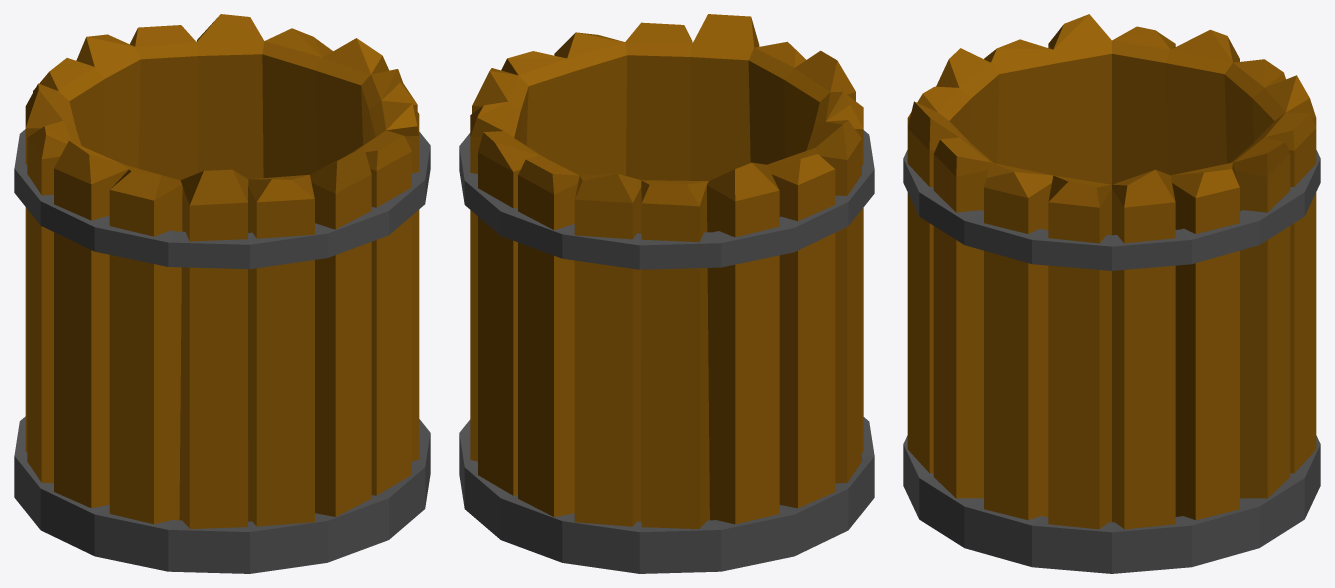
The model's file is Garbage.fbx.
3 renders of one model, left to right at view 1: azimuth 30°, elevation 25°; view 2: azimuth 150°, elevation 25°; view 3: azimuth 270°, elevation 25°, orthographic.
Parts seen in each view (by area): view 1: Garbage; view 2: Garbage; view 3: Garbage.
Part boxes in pixels (left/top/right/bottom): Garbage: left=14, top=14, right=430, bottom=573; Garbage: left=459, top=14, right=874, bottom=573; Garbage: left=903, top=14, right=1320, bottom=573.
Bounding box in the file's own units: 592 × 614 × 592.
